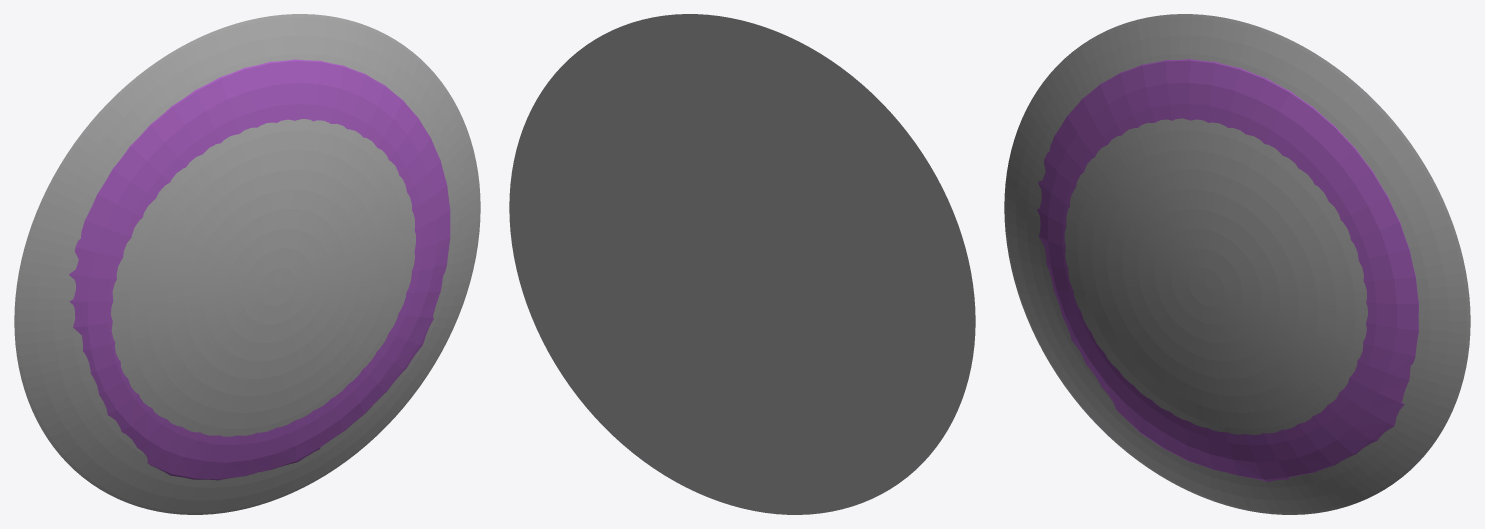
File: G06_A3_ALIGNED_GT.glb
The picture shows the model from 3 angles, left to right: view 1: azimuth 30°, elevation 25°; view 2: azimuth 150°, elevation 25°; view 3: azimuth 330°, elevation 25°; orthographic projection.
Parts seen in each view (by area): view 1: Independent_GT, A3; view 2: Independent_GT; view 3: Independent_GT, A3.
Boxes of the visible parts, left/top/right/bottom form: Independent_GT: left=14, top=14, right=480, bottom=514; A3: left=69, top=59, right=450, bottom=480; Independent_GT: left=509, top=14, right=975, bottom=514; Independent_GT: left=1004, top=14, right=1470, bottom=514; A3: left=1037, top=59, right=1419, bottom=481.
Bounding box in the file's own units: 0.014 × 0.014 × 0.00165.
